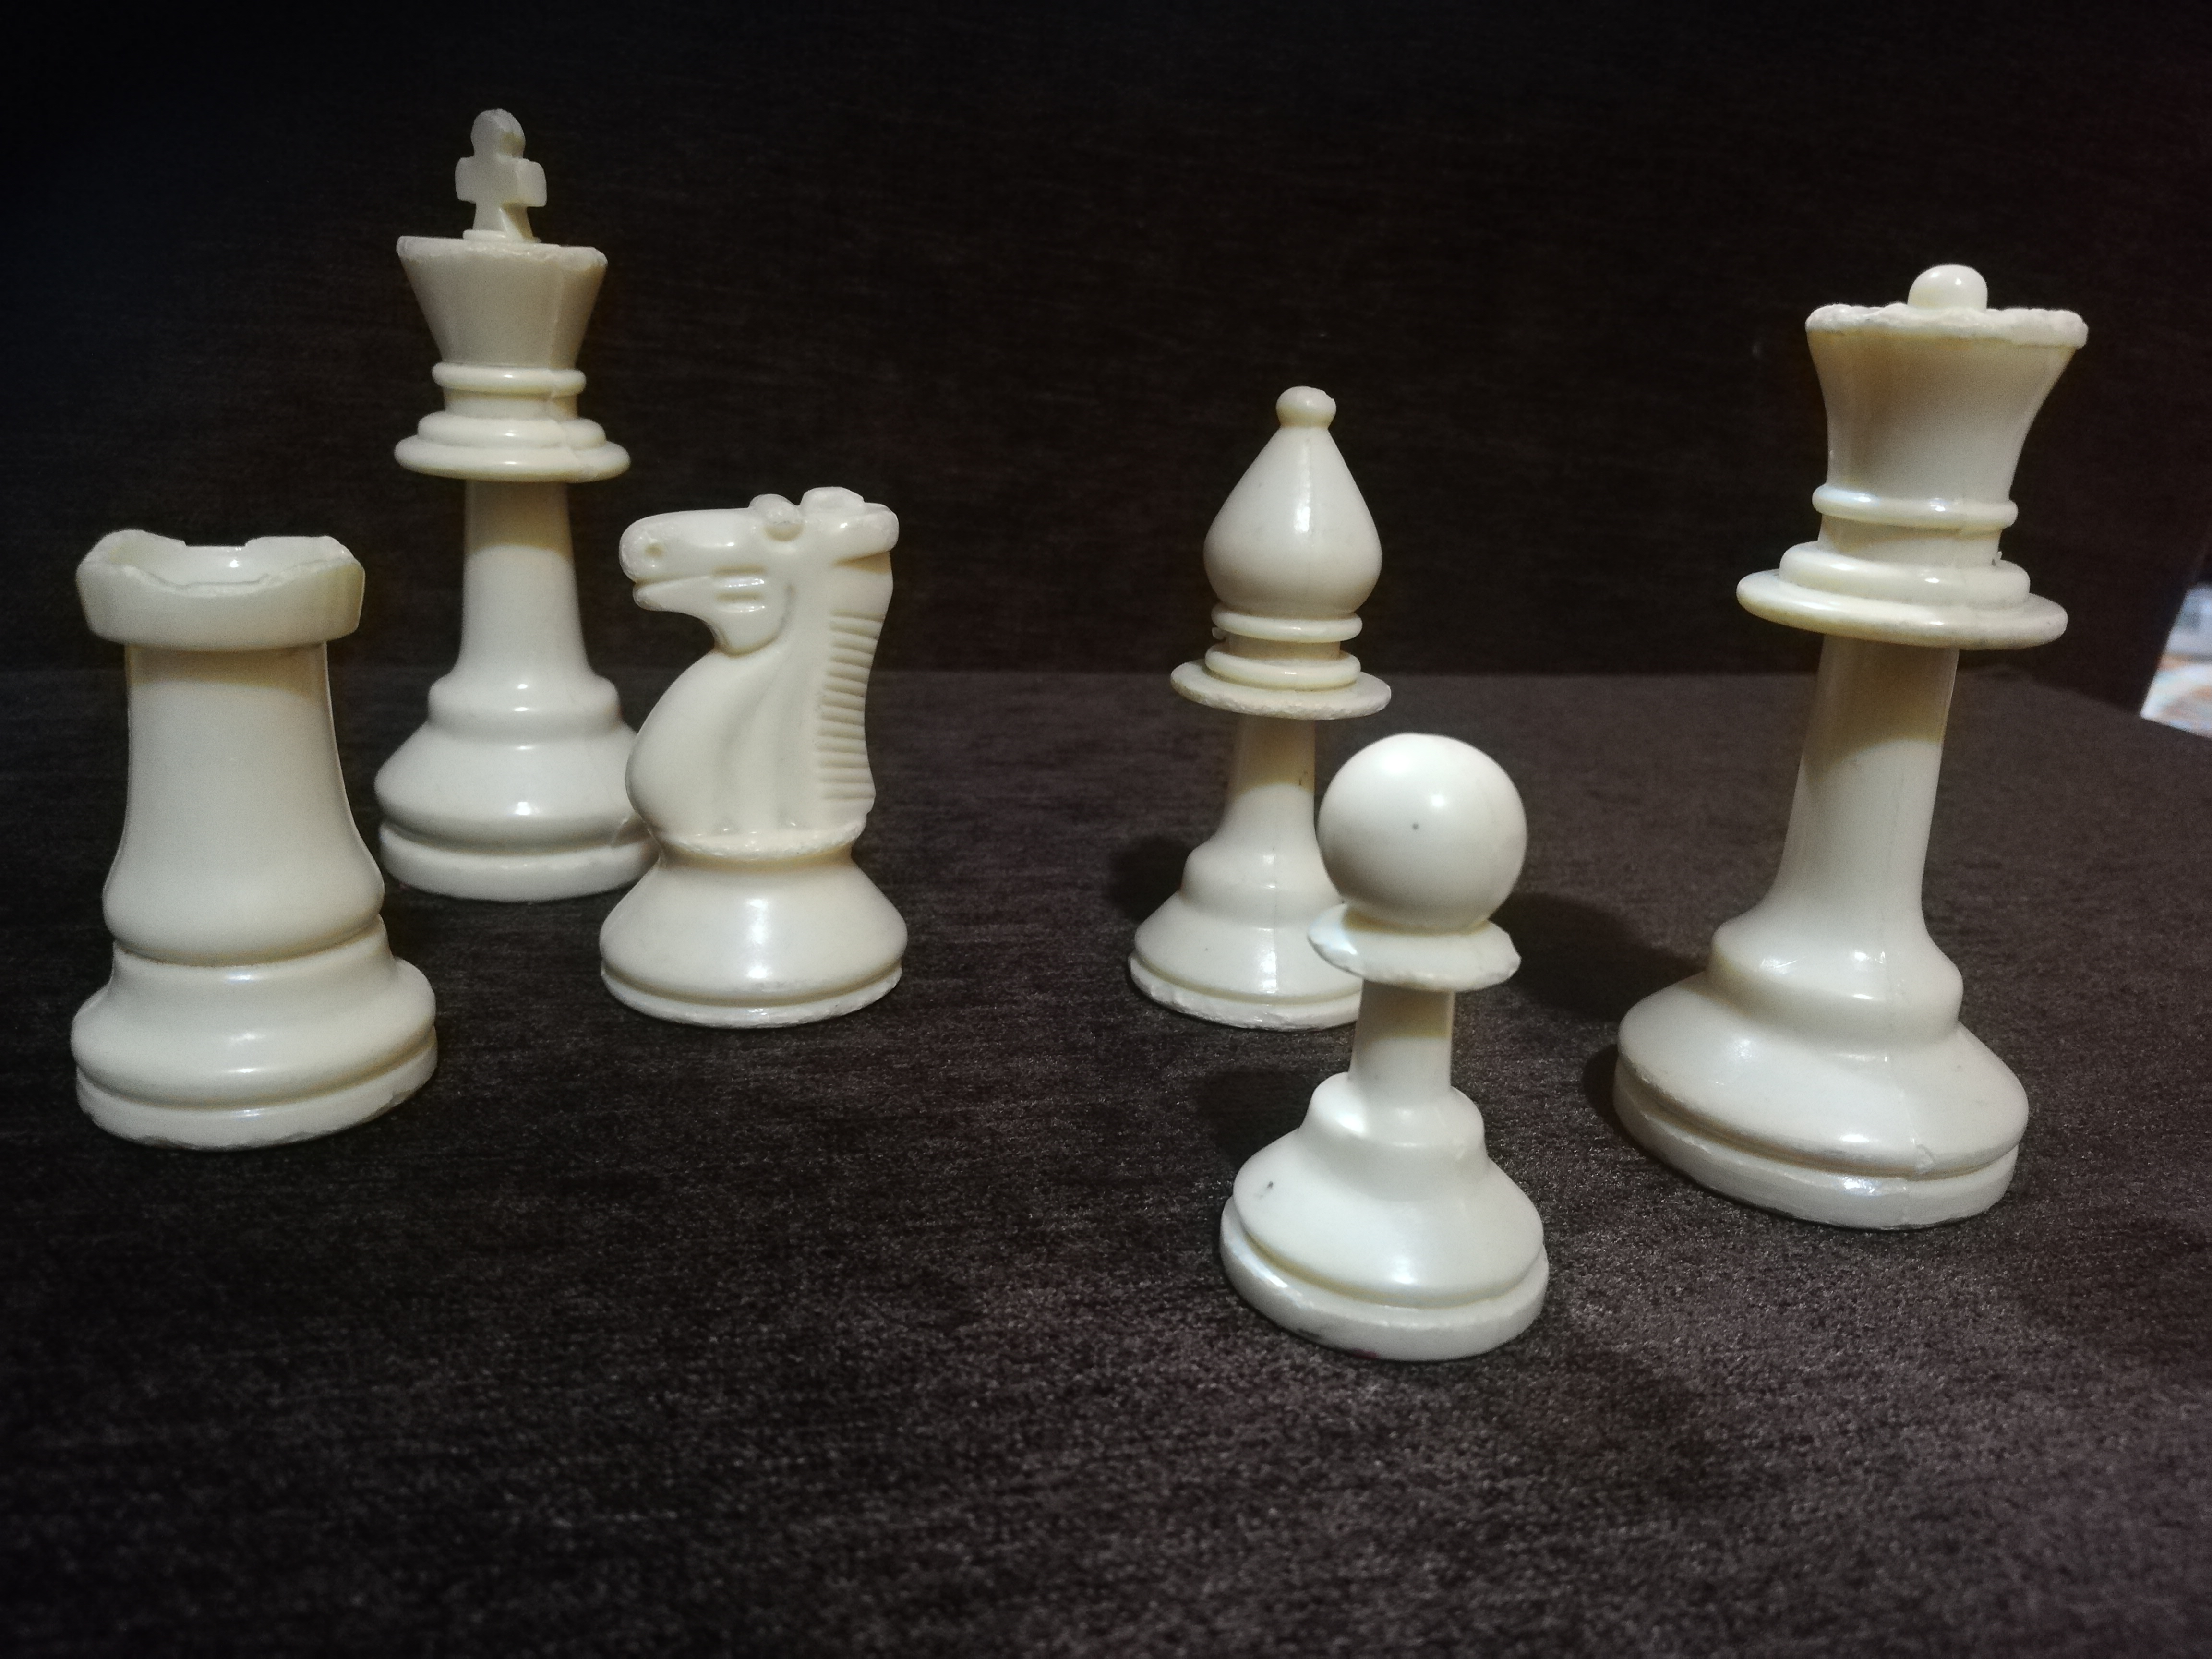Bishop: (1116, 371, 1429, 1034)
King: (369, 109, 685, 902)
Knight: (600, 482, 941, 1014)
Pawn: (1217, 722, 1587, 1382)
Queen: (1644, 269, 2086, 1237)
Rook: (45, 517, 447, 1146)
